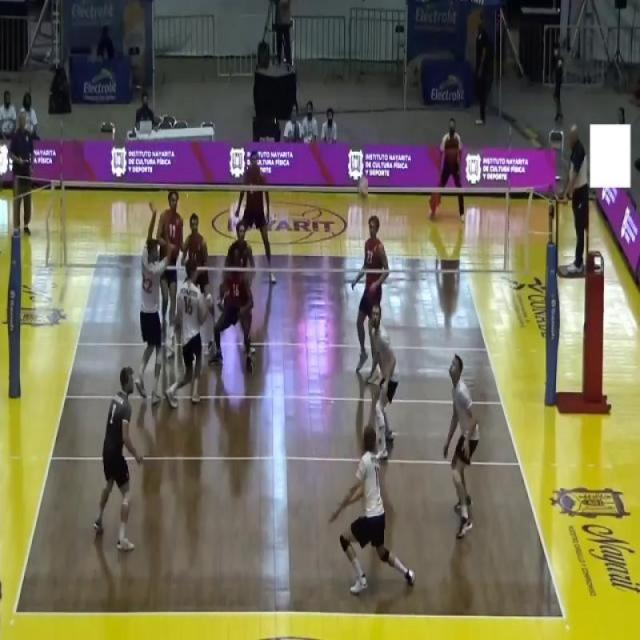volleyball: (358, 176, 369, 200)
